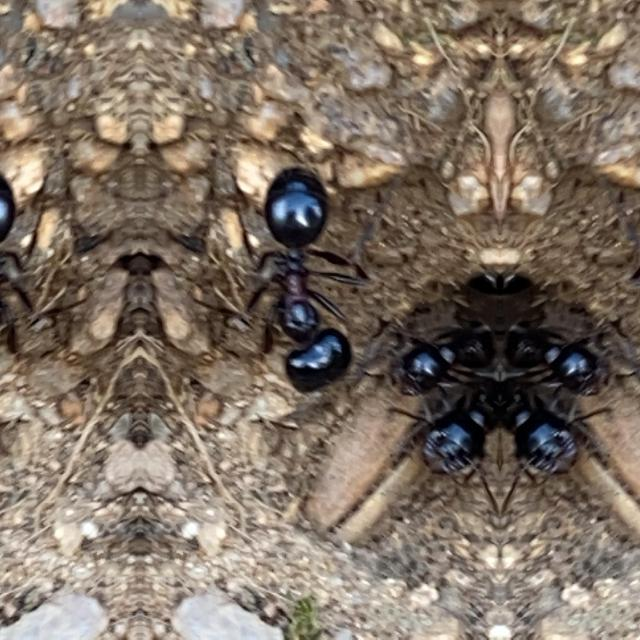Messor: (228, 137, 370, 400), (368, 276, 497, 394), (503, 276, 632, 394), (0, 137, 52, 400), (385, 362, 499, 471), (501, 362, 615, 471)
